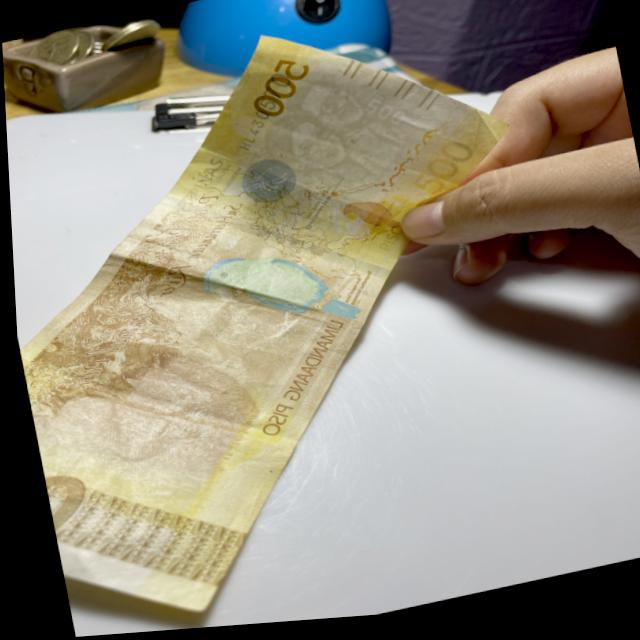500_big_parrot: (196, 233, 360, 357)
500_parrot_watermark: (330, 195, 401, 246)
value_watermark: (358, 99, 406, 138)
watermark: (255, 75, 400, 203)
